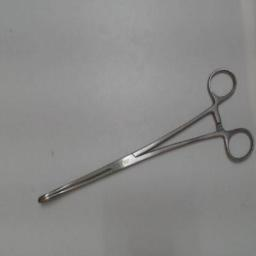Sponge Forceps: (34, 64, 254, 212)
